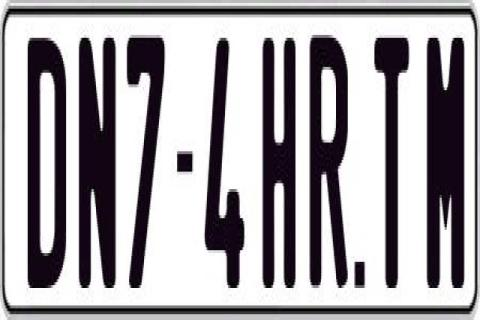0: (202, 32, 246, 288), (126, 32, 163, 300)
D: (26, 35, 66, 285)
H: (262, 35, 299, 291)
M: (424, 29, 461, 285)
N: (76, 35, 113, 299)
R: (308, 32, 349, 288)
T: (374, 35, 414, 291)
